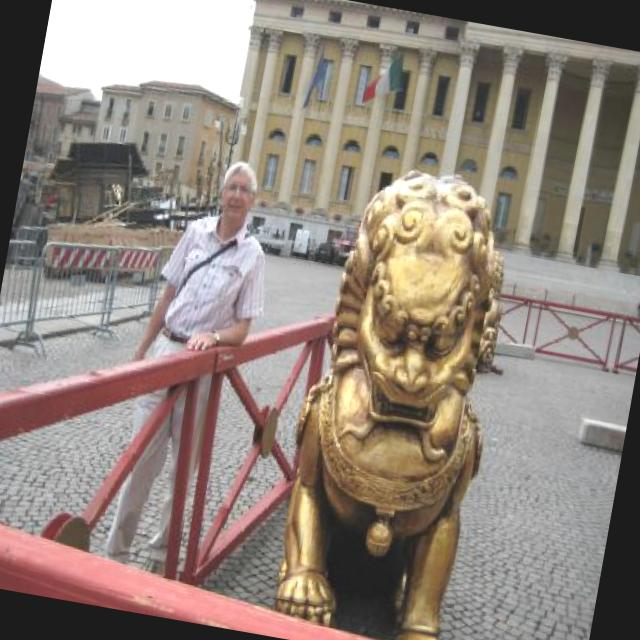Person: (96, 148, 286, 582)
